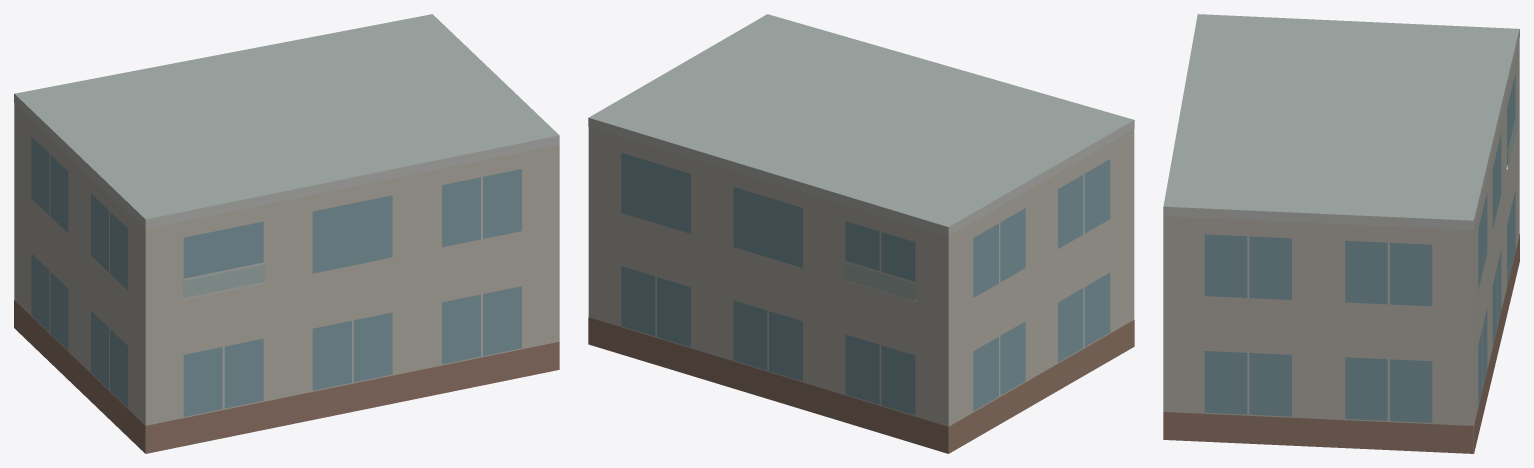
Rendered from survey-upis-32992157.glb.
3 renders of one model, left to right at view 1: azimuth 30°, elevation 25°; view 2: azimuth 150°, elevation 25°; view 3: azimuth 270°, elevation 25°, orthographic. The views are drawn at different scales.
Parts seen in each view (by area): view 1: survey-upis-32992157.tmp; view 2: survey-upis-32992157.tmp; view 3: survey-upis-32992157.tmp.
Boxes of the visible parts, left/top/right/bottom form: survey-upis-32992157.tmp: left=14, top=14, right=559, bottom=453; survey-upis-32992157.tmp: left=588, top=14, right=1134, bottom=453; survey-upis-32992157.tmp: left=1163, top=14, right=1519, bottom=453.
Bounding box in the file's own units: 11.61 × 6.1 × 8.46.
